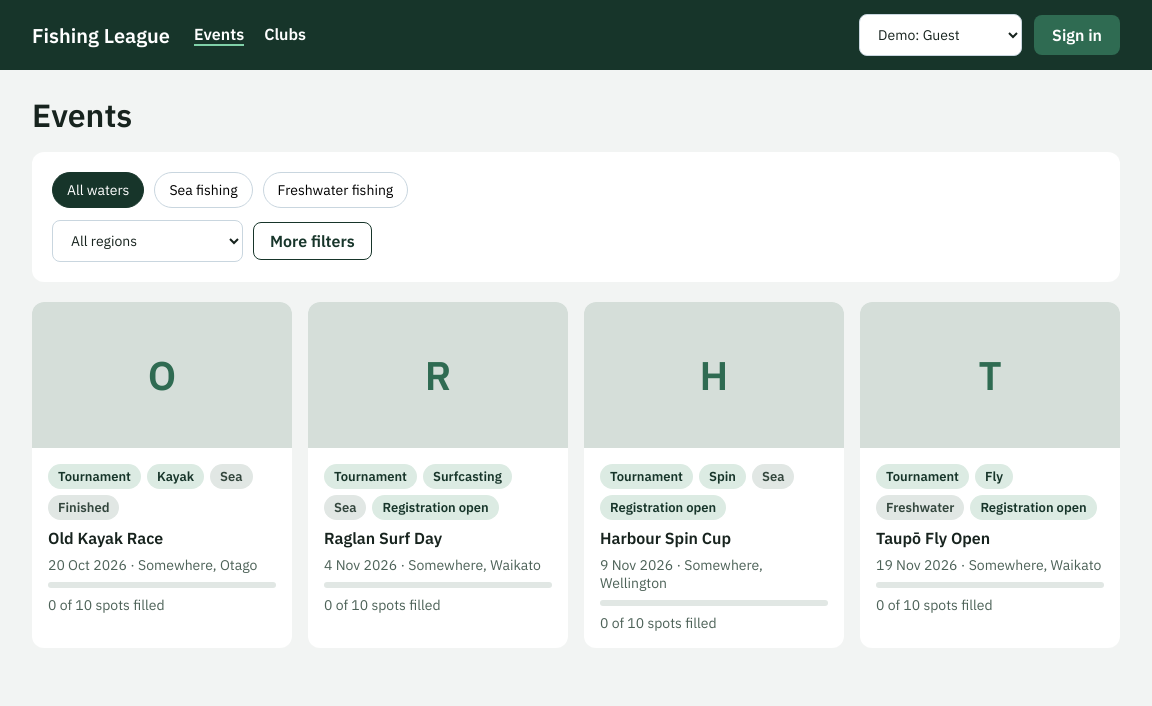
Test: advanced search › counts active advanced filters on the button, even when it is closed, and keeps applying them
Expected: the text "Taupō Fly Open" is shown, [876, 528, 990, 548]
Click the button "More filters": click(312, 241) [253, 222, 372, 260]
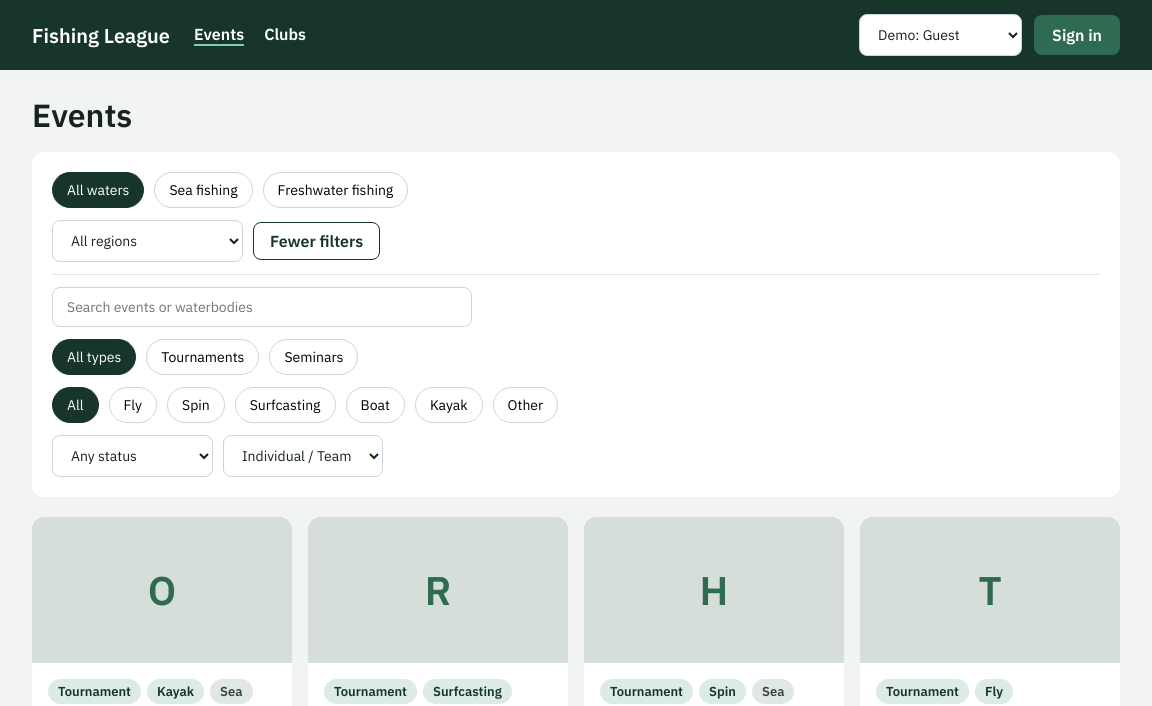
In the field labelled "Search": (262, 307) [52, 287, 472, 327], type "o"
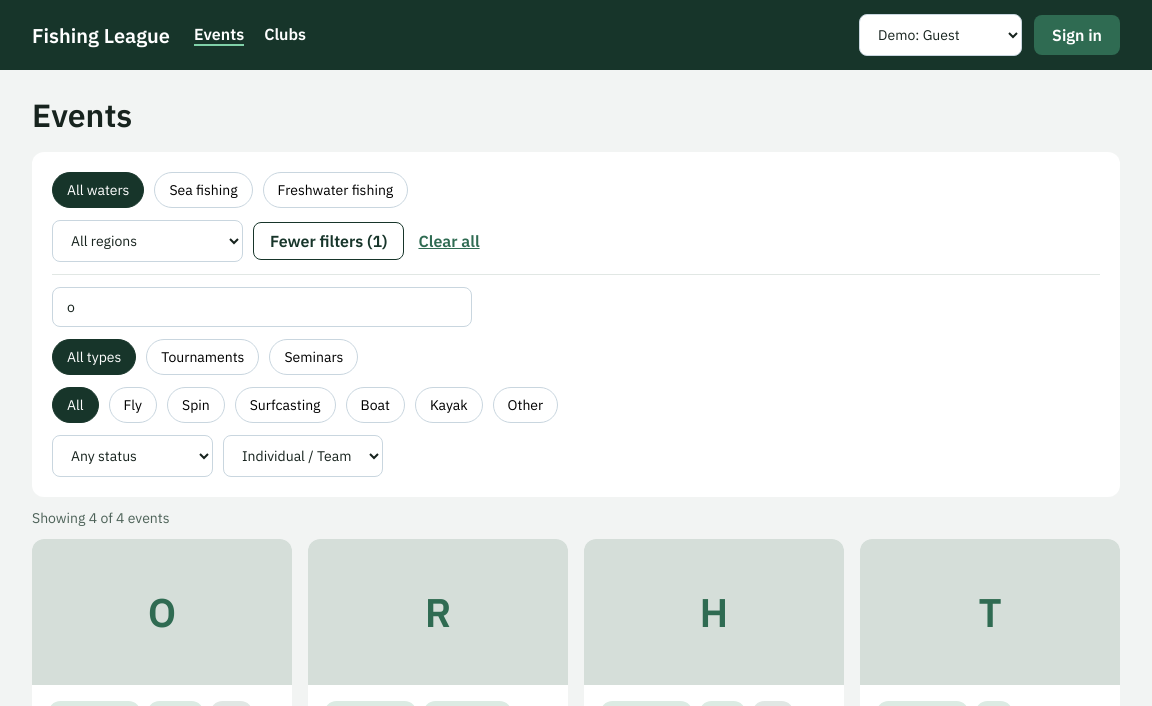
Click the button "Spin": click(196, 405) [167, 387, 225, 423]
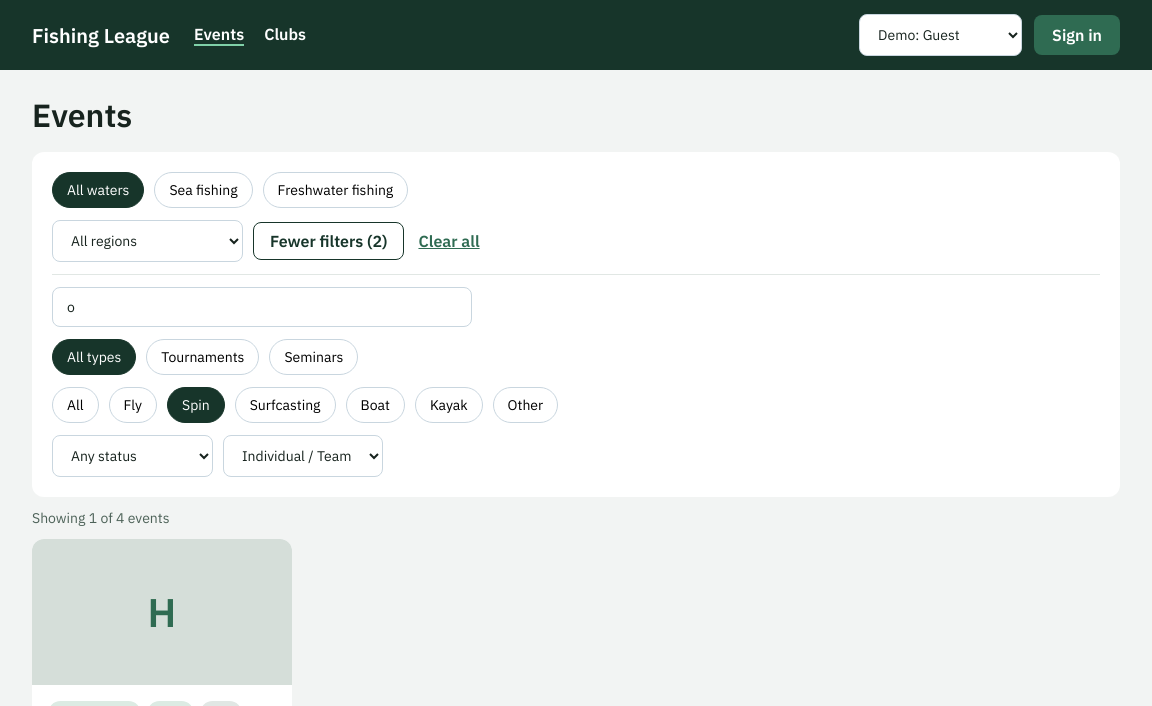
Now the button "Fewer filters (2)" is shown
Click the button "Fewer filters (2)": click(329, 241) [253, 222, 404, 260]
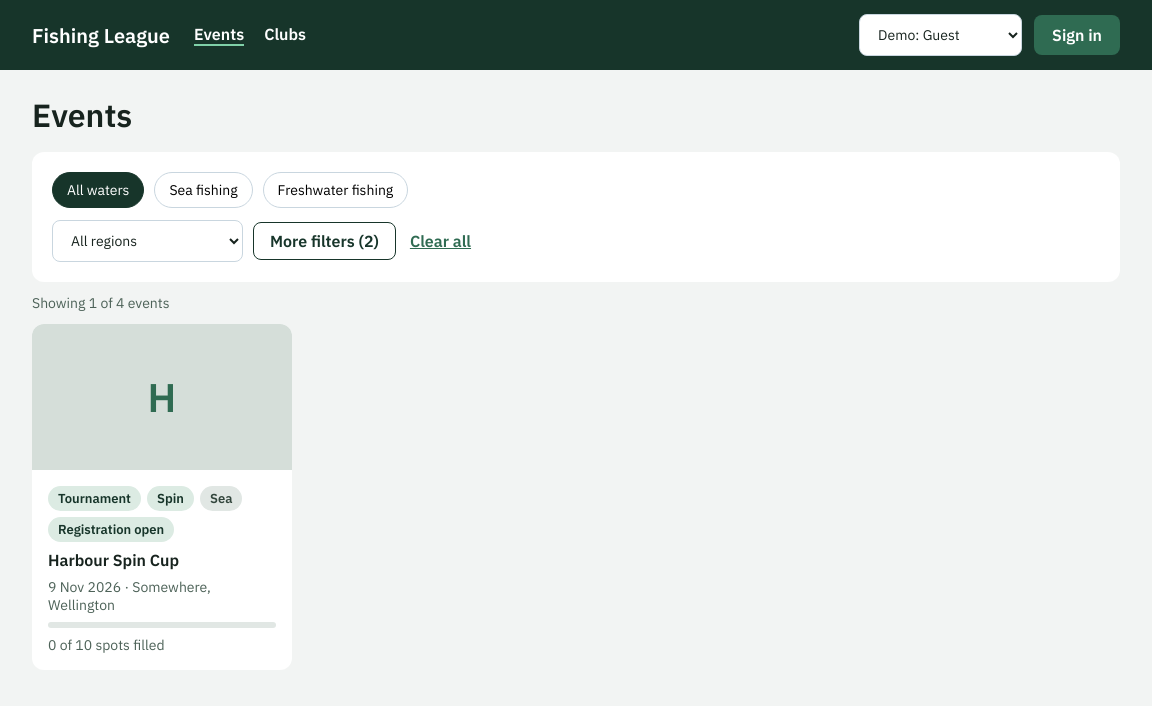
Now the button "More filters (2)" is shown, box [253, 222, 396, 260]
